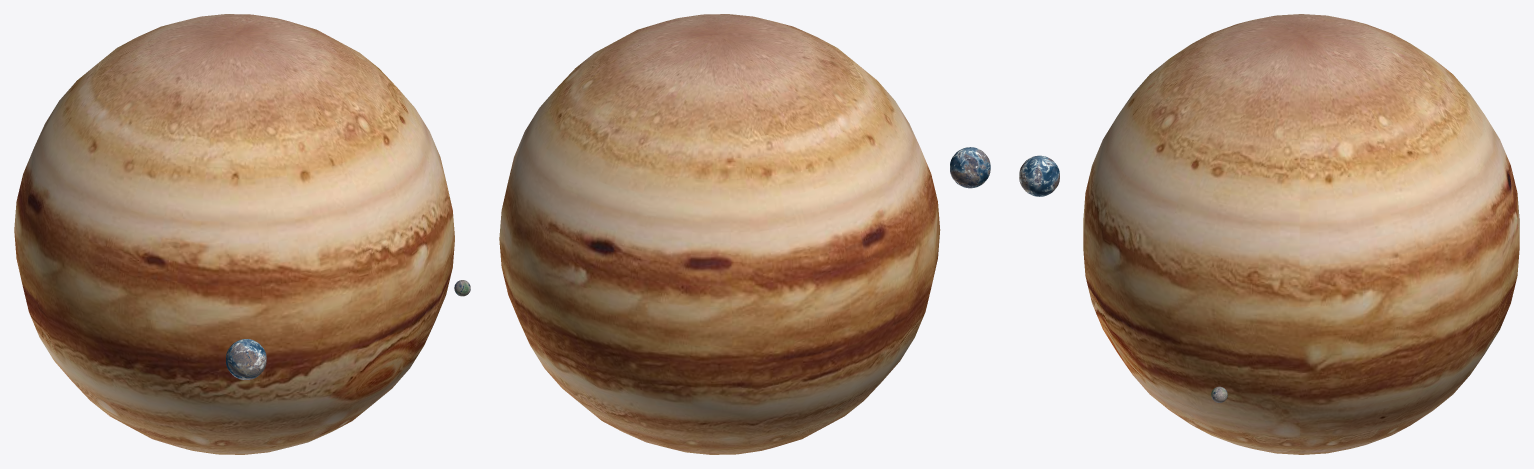
The model's file is Jupiter_OLD.fbx.
3 views of the same model, side by side, from view 1: azimuth 30°, elevation 25°; view 2: azimuth 150°, elevation 25°; view 3: azimuth 270°, elevation 25° (orthographic).
Visible parts, largest first — view 1: pSphere1, pSphere2; view 2: pSphere1, pSphere2; view 3: pSphere1, pSphere2.
Part boxes in pixels (x1=…): pSphere1: x1=14, y1=14, x2=454, y2=454; pSphere2: x1=226, y1=339, x2=266, y2=379; pSphere1: x1=499, y1=14, x2=940, y2=454; pSphere2: x1=950, y1=147, x2=990, y2=188; pSphere1: x1=1083, y1=14, x2=1519, y2=454; pSphere2: x1=1019, y1=155, x2=1059, y2=196.
Size of the model in its own units: 322 by 320 by 363.
